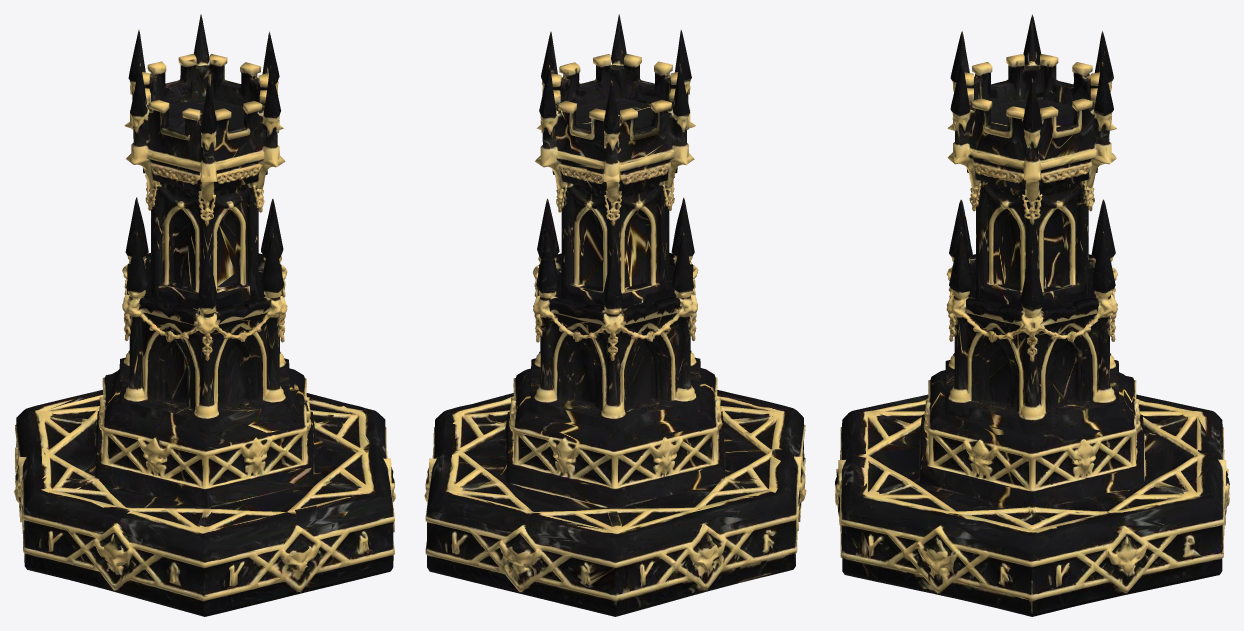
The model's file is Obsidian_Citadel.glb.
3 renders of one model, left to right at view 1: azimuth 30°, elevation 25°; view 2: azimuth 150°, elevation 25°; view 3: azimuth 270°, elevation 25°, orthographic.
Parts seen in each view (by area): view 1: Obsidian_Citadel; view 2: Obsidian_Citadel; view 3: Obsidian_Citadel.
Part boxes in pixels (bbox=[...]): Obsidian_Citadel: bbox=[14, 14, 395, 616]; Obsidian_Citadel: bbox=[424, 14, 806, 616]; Obsidian_Citadel: bbox=[835, 14, 1229, 616].
Size of the model in its own units: 1.51 by 1.9 by 1.41.
1 material, 1 textured.
